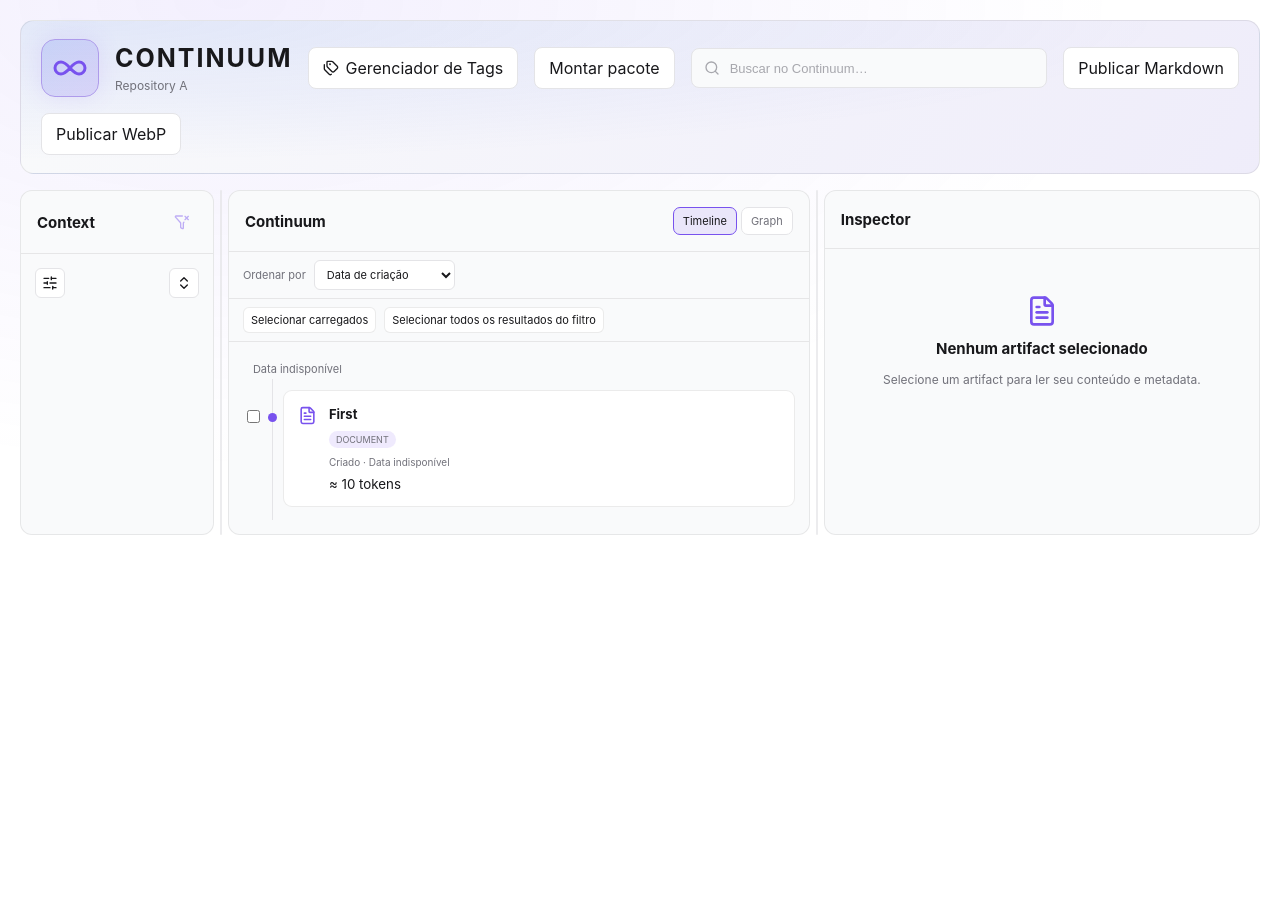
Test: keeps bulk selection across pages independently of inspection and clears it on search changes
Click the checkbox named "Selecionar First".
click(253, 416)  # box [247,410,260,423]
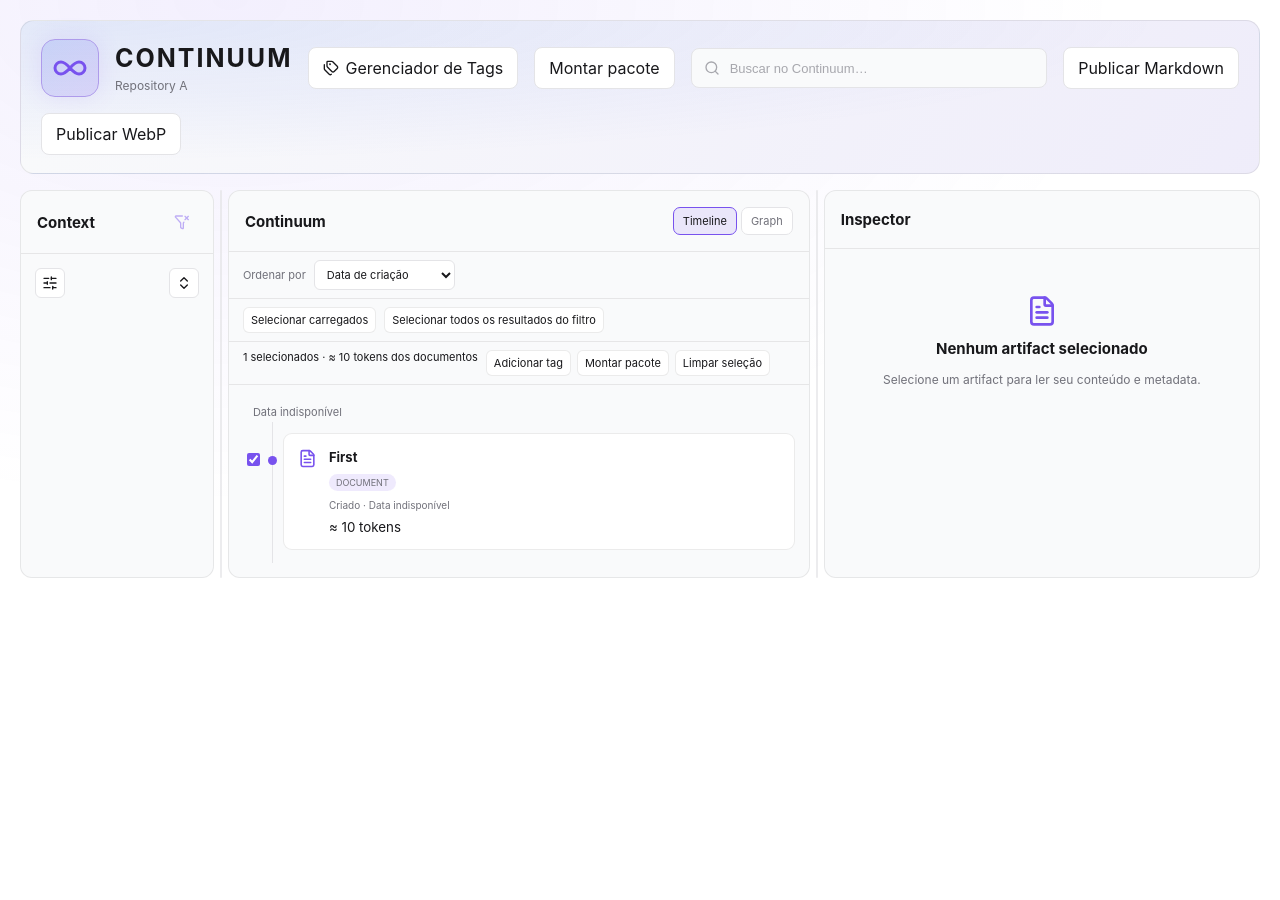
Click the button "First DOCUMENT Criado · Data indisponível ≈ 10 tokens".
click(362, 483)  # box [283,433,795,550]
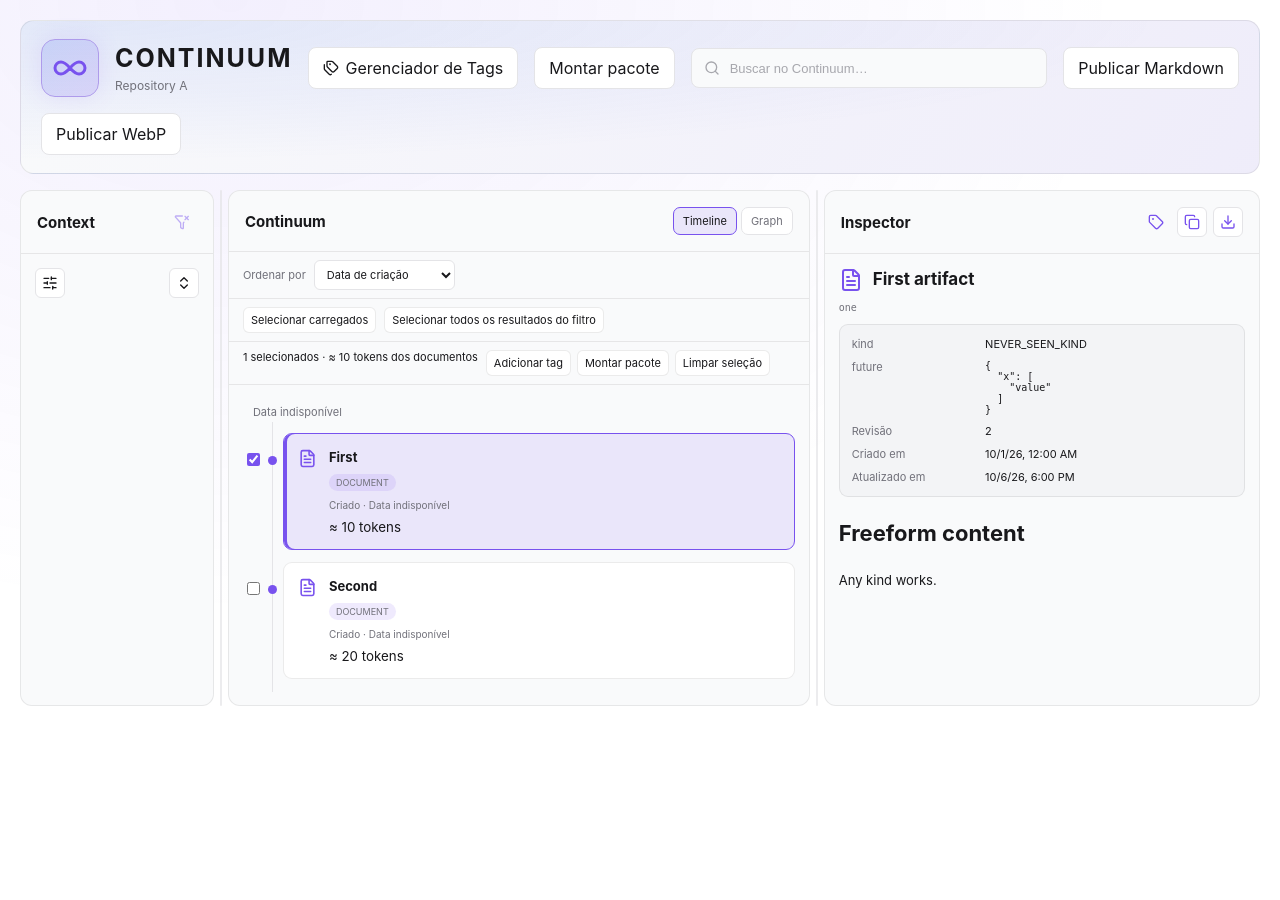
Click the checkbox named "Selecionar Second".
click(253, 589)  # box [247,582,260,595]
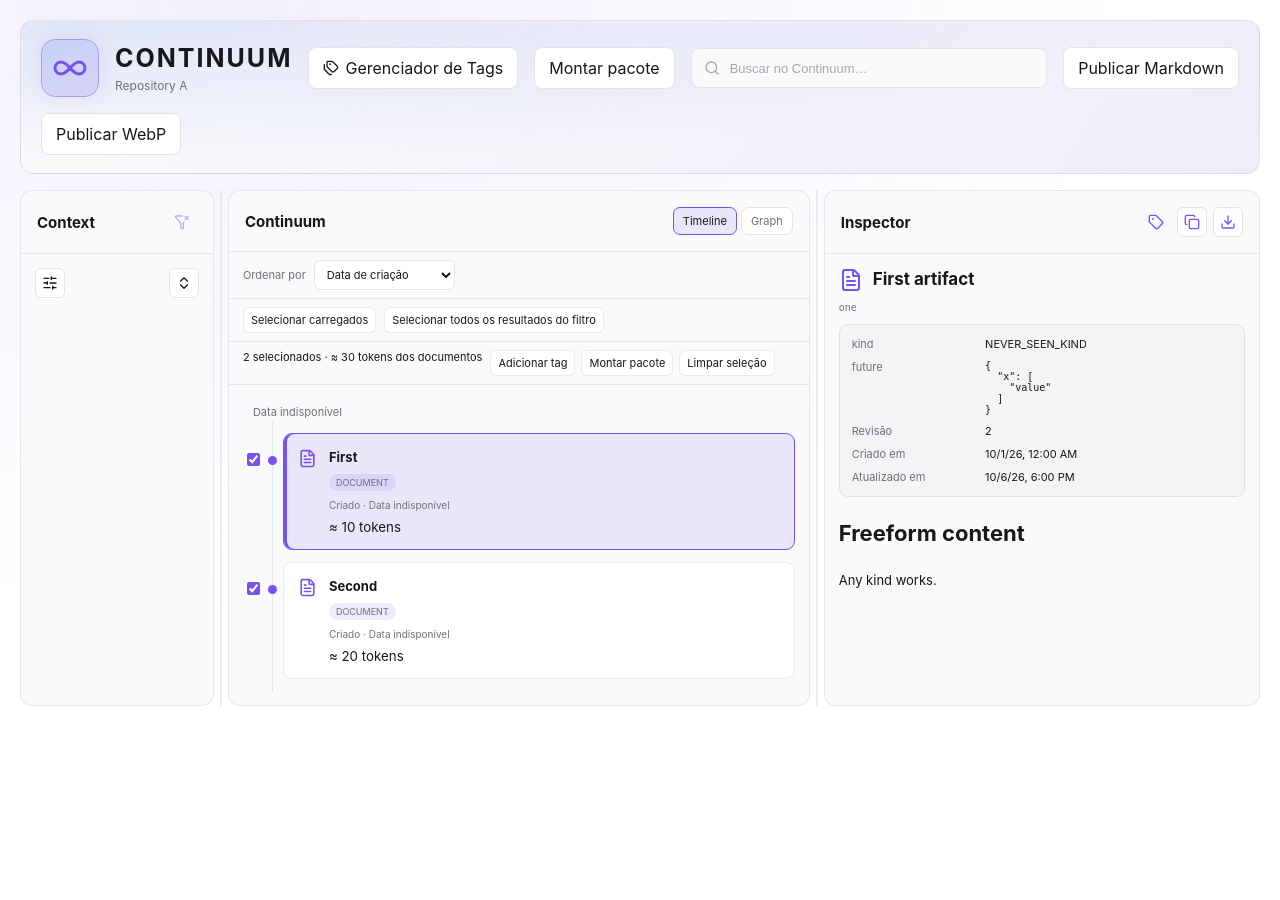
Check: the checkbox named "Selecionar First" is checked, box [247,453,260,466]
Check: the text "2 selecionados · ≈ 30 tokens dos documentos" is shown, box [243,350,482,364]
Type "Changed" into the field labelled "Buscar no Continuum".
click(881, 68); type("Changed")  # box [728,60,1034,76]
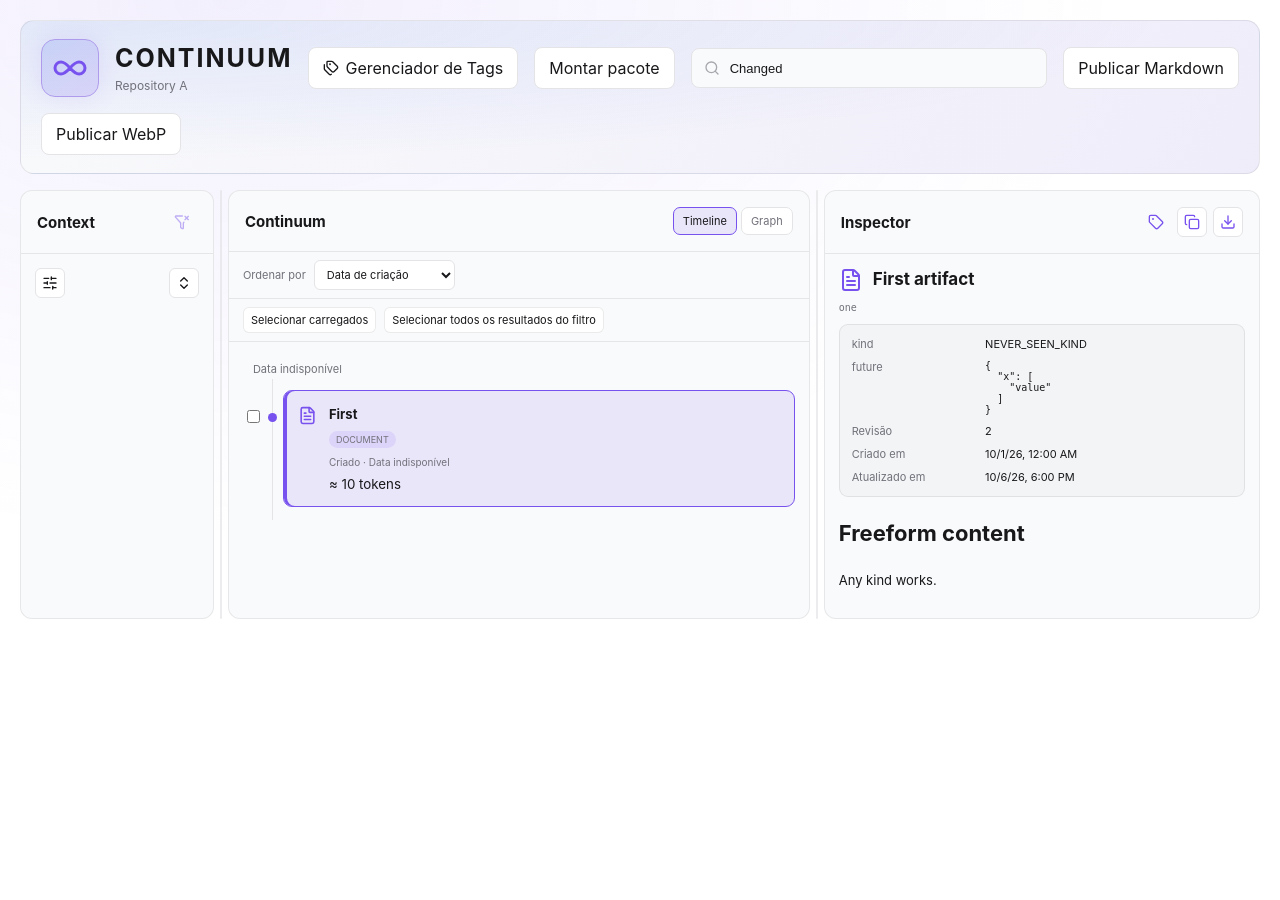
Check: the text "2 selecionados" is gone
